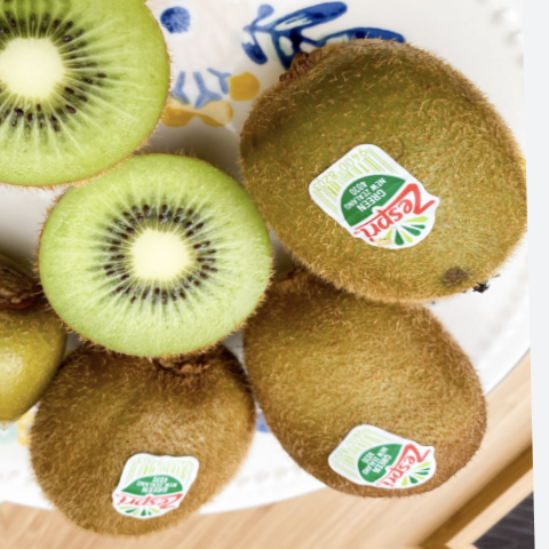kiwi: (202, 37, 544, 329), (245, 250, 488, 527), (3, 328, 274, 547)
